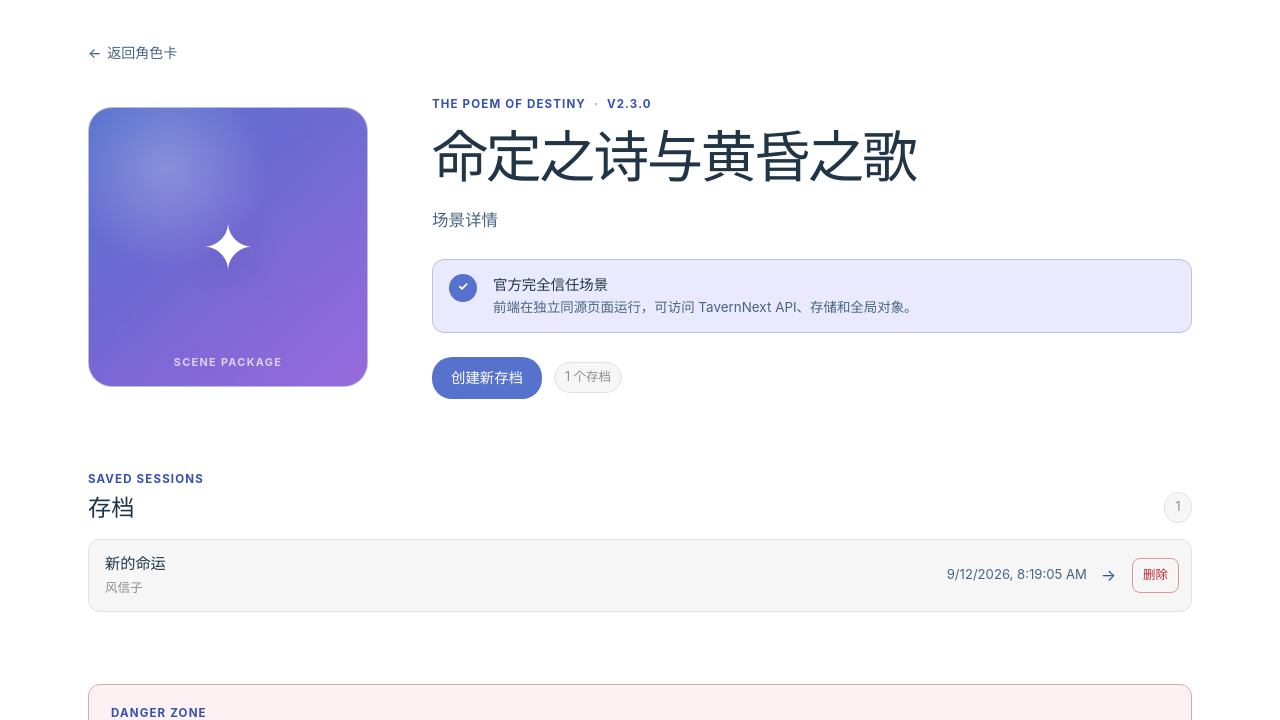
Test: SceneDetailPage Save deletion › deletes one Save after confirmation and refreshes the list
Click the button with aria-label "删除存档 新的命运": [1156, 575] box left=1132, top=558, right=1179, bottom=593
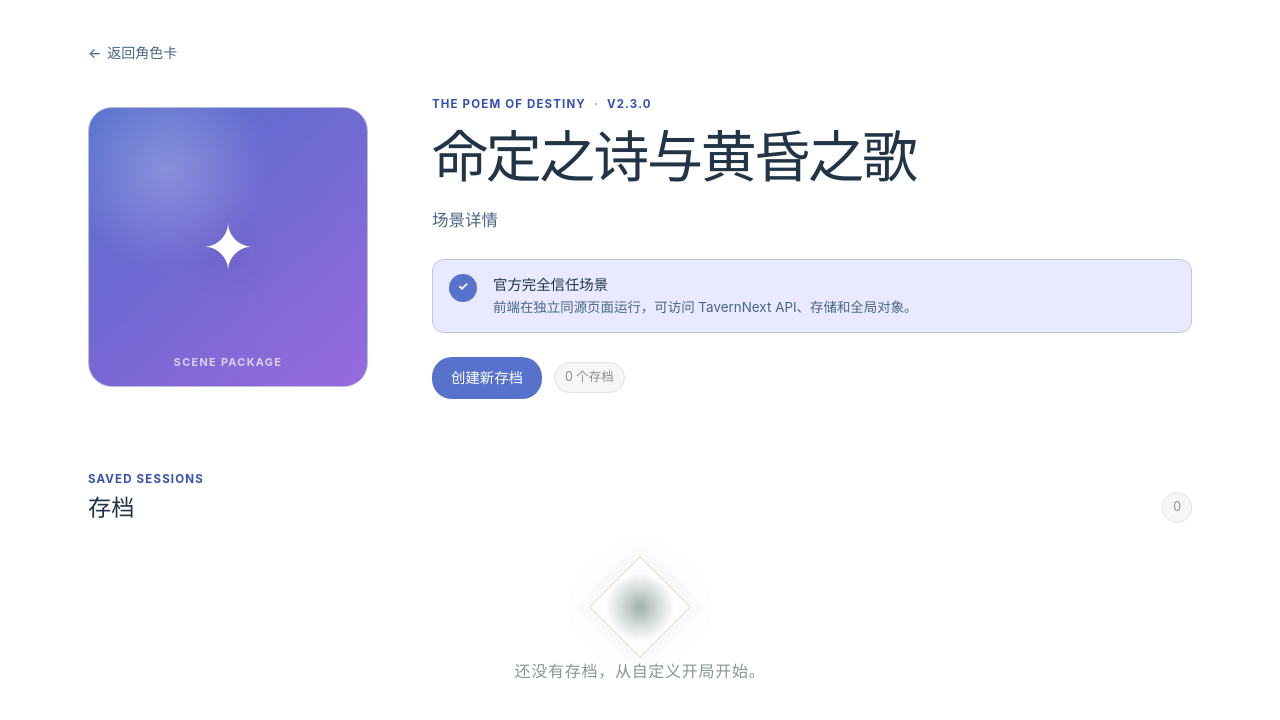
expect the text "还没有存档，从自定义开局开始。" is shown: met, box left=515, top=661, right=765, bottom=681
